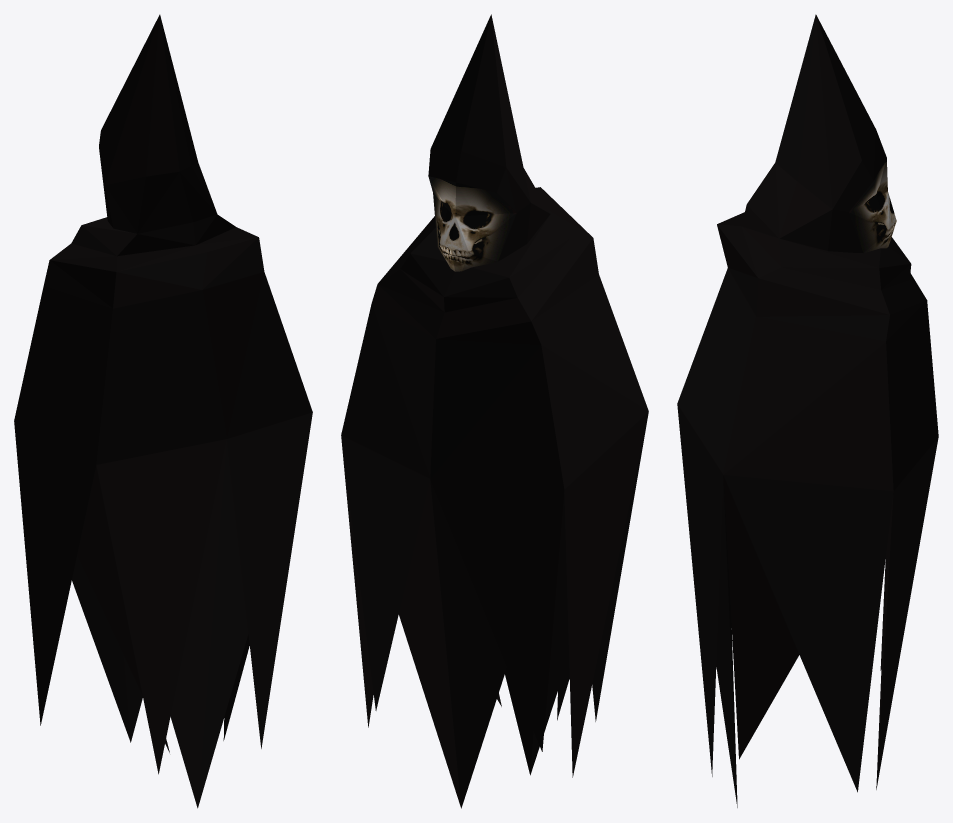
Rendered from kh1.ico.obj.
The picture shows the model from 3 angles, left to right: view 1: azimuth 30°, elevation 25°; view 2: azimuth 150°, elevation 25°; view 3: azimuth 270°, elevation 25°; orthographic projection. The views are drawn at different scales.
Size of the model in its own units: 1.43 by 4.84 by 1.44.
1 material, 1 textured.
